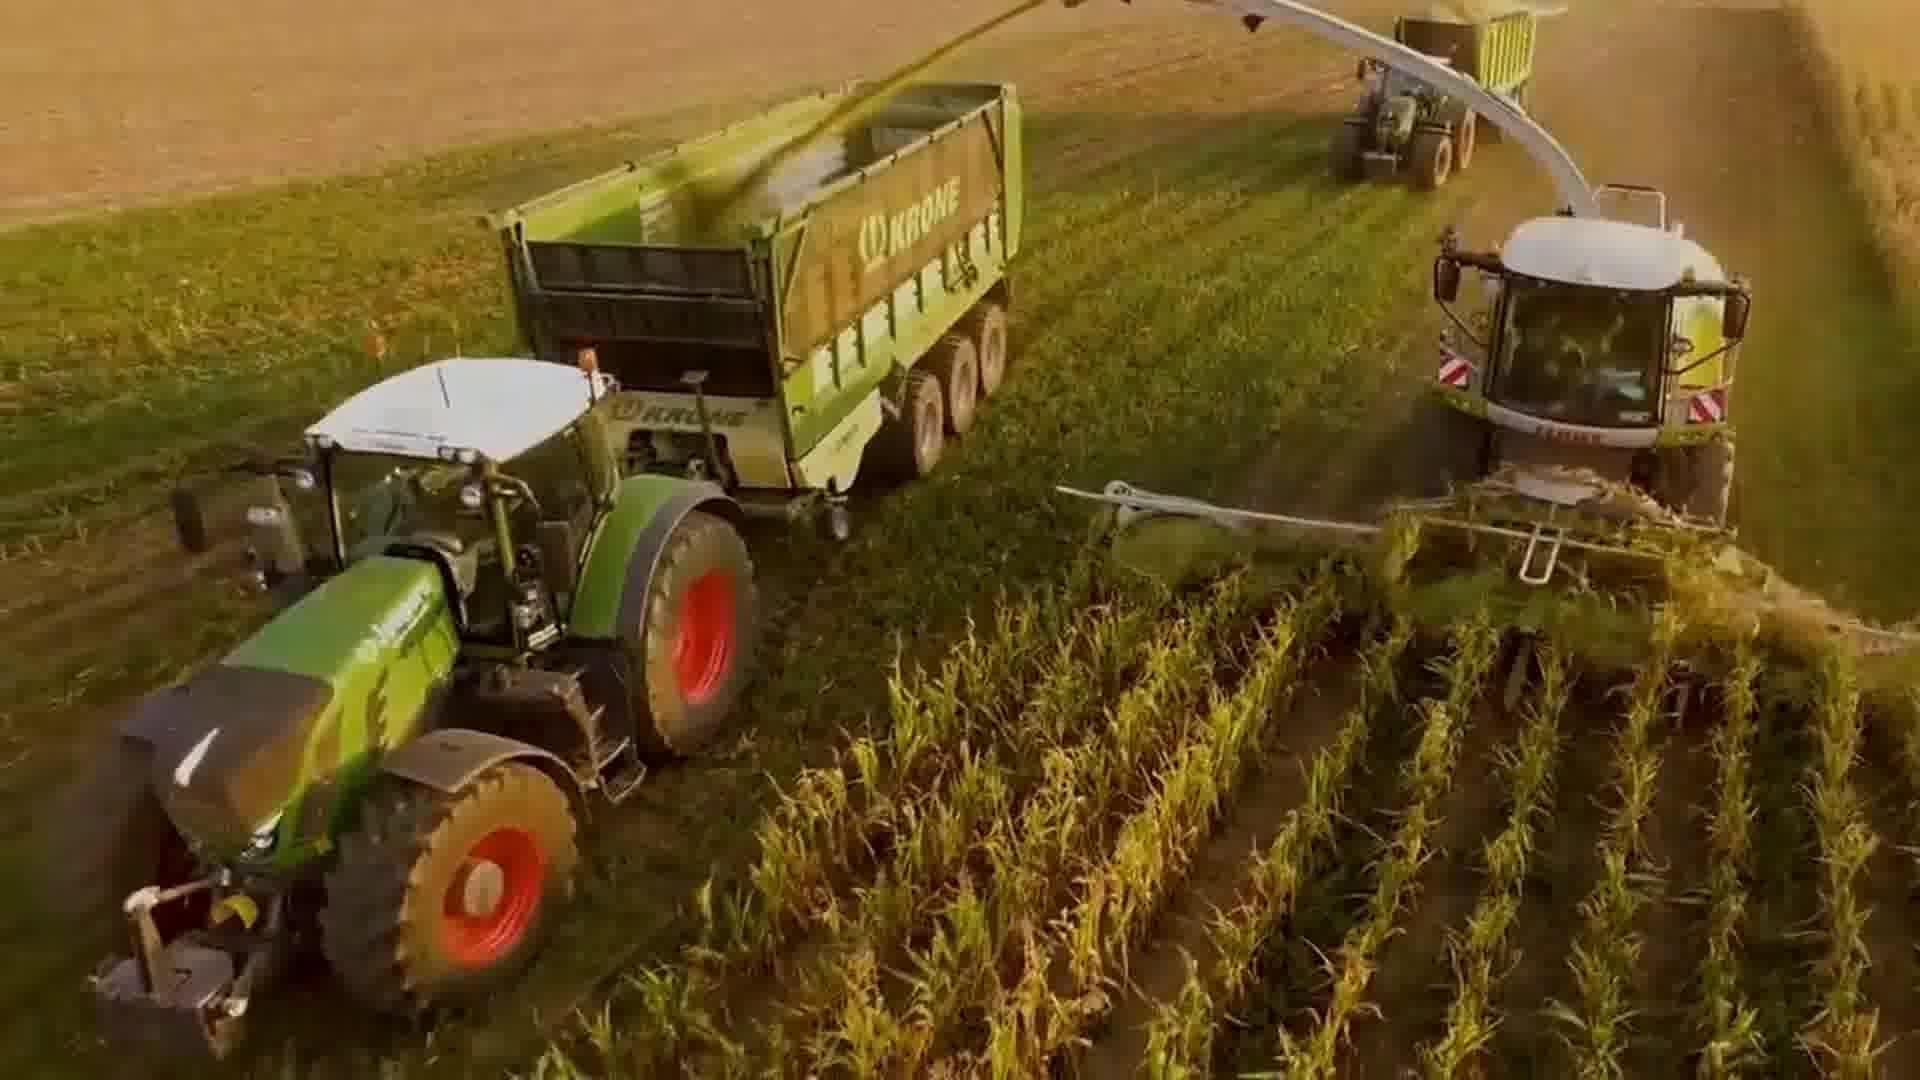combine harvester: (1054, 0, 1919, 724)
tractor: (38, 322, 767, 1069), (1325, 41, 1484, 195)
trailer: (493, 67, 1038, 538), (1385, 0, 1544, 131)
